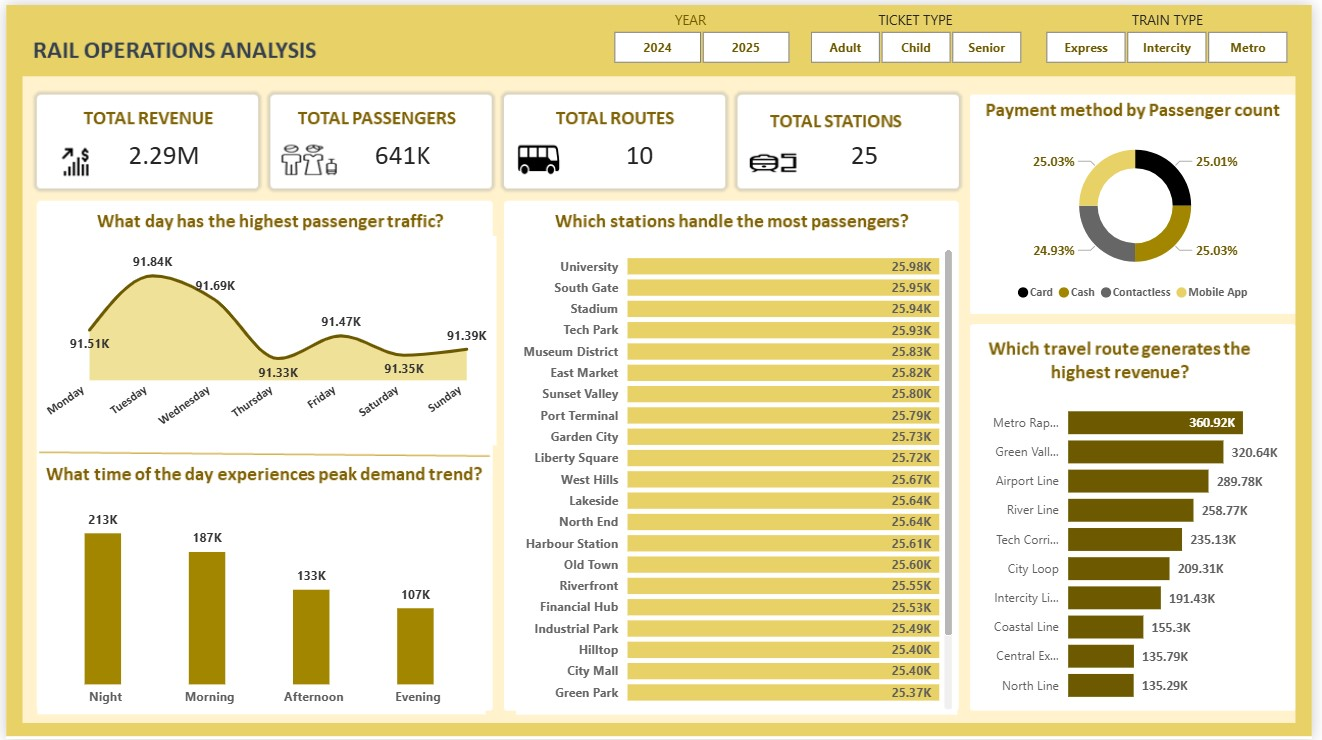

This screenshot's page, from the dashboard's own definition file:
{"tool":"powerbi","page":{"name":"Dasboard","canvas":[1280,720],"ordinal":1},"visuals":[{"type":"areaChart","fields":{"Category":["ticket_sales_fact.Day"],"Y":["ticket_sales_fact.Total passengers"]},"box":[30.2,225.9,450.1,205.2],"z":0},{"type":"donutChart","fields":{"Category":["payment_methods_dim.payment_method"],"Y":["ticket_sales_fact.Total passengers"]},"box":[949.6,120.9,313.4,179.7],"z":1000},{"type":"clusteredBarChart","fields":{"Category":["rail_stations_dim.station_name"],"Y":["ticket_sales_fact.Total passengers"]},"box":[499.5,225.9,432.6,469.2],"z":2000},{"type":"clusteredBarChart","fields":{"Category":["rail_routes_dim.route_name"],"Y":["ticket_sales_fact.Total Revenue"]},"box":[949.6,373.8,313.4,321.3],"z":3000},{"type":"card","fields":{"Values":["ticket_sales_fact.Total passengers"]},"box":[326.1,120.9,124.1,50.9],"z":4000},{"type":"card","fields":{"Values":["ticket_sales_fact.Total Revenue"]},"box":[92.3,120.9,124.1,50.9],"z":5000},{"type":"card","fields":{"Values":["ticket_sales_fact.Total Route"]},"box":[558.3,120.9,124.1,50.9],"z":6000},{"type":"card","fields":{"Values":["ticket_sales_fact.Total Stations"]},"box":[779.4,120.9,124.1,50.9],"z":7000},{"type":"slicer","fields":{"Values":["ticket_sales_fact.year"]},"box":[571,19.1,221.1,44.5],"z":8000,"group":"g2"},{"type":"clusteredColumnChart","fields":{"Category":["ticket_sales_fact.time of the day"],"Y":["ticket_sales_fact.Total passengers"]},"box":[30.2,478.8,439,216.3],"z":8000},{"type":"group","id":"g1","title":"Group 1","box":[598.1,0,612.4,30.2],"z":9000},{"type":"slicer","fields":{"Values":["ticket_sales_fact.ticket_type"]},"box":[763.5,19.1,256.1,44.5],"z":9000,"group":"g2"},{"type":"group","id":"g2","title":"Group 2","box":[571,19.1,709.4,44.5],"z":10000},{"type":"slicer","fields":{"Values":["rail_trains_dim.train_type"]},"box":[994.1,19.1,286.3,44.5],"z":10000,"group":"g2"},{"type":"textbox","box":[598.1,0,144.7,30.2],"z":12000,"group":"g1"},{"type":"textbox","box":[819.2,0,144.7,30.2],"z":13000,"group":"g1"},{"type":"textbox","box":[1065.7,0,144.7,30.2],"z":14000,"group":"g1"}]}

Visuals, with their boxes in screenshot pixels (x1, y1, x2, y2), scaled from the page's 1280x720 canvas onto the 1322x740 screenshot:
areaChart - ticket_sales_fact.Day x ticket_sales_fact.Total passengers: [31,232,496,443]
donutChart - payment_methods_dim.payment_method x ticket_sales_fact.Total passengers: [981,124,1304,309]
clusteredBarChart - rail_stations_dim.station_name x ticket_sales_fact.Total passengers: [516,232,963,714]
clusteredBarChart - rail_routes_dim.route_name x ticket_sales_fact.Total Revenue: [981,384,1304,714]
card - ticket_sales_fact.Total passengers: [337,124,465,177]
card - ticket_sales_fact.Total Revenue: [95,124,224,177]
card - ticket_sales_fact.Total Route: [577,124,705,177]
card - ticket_sales_fact.Total Stations: [805,124,933,177]
slicer - ticket_sales_fact.year: [590,20,818,65]
clusteredColumnChart - ticket_sales_fact.time of the day x ticket_sales_fact.Total passengers: [31,492,485,714]
"Group 1" group: [618,0,1250,31]
slicer - ticket_sales_fact.ticket_type: [789,20,1053,65]
"Group 2" group: [590,20,1321,65]
slicer - rail_trains_dim.train_type: [1027,20,1321,65]
textbox: [618,0,767,31]
textbox: [846,0,996,31]
textbox: [1101,0,1250,31]
